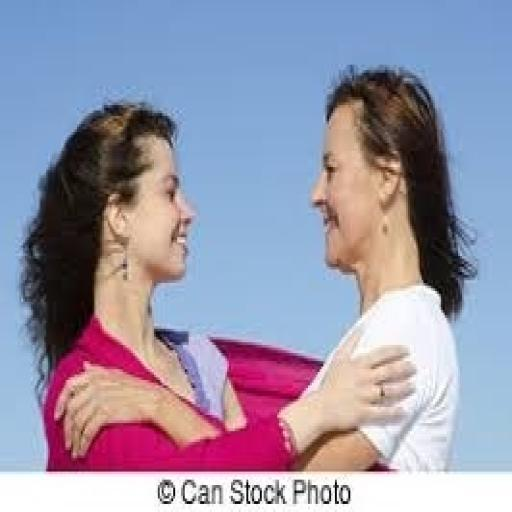hugging: (18, 62, 478, 474)
